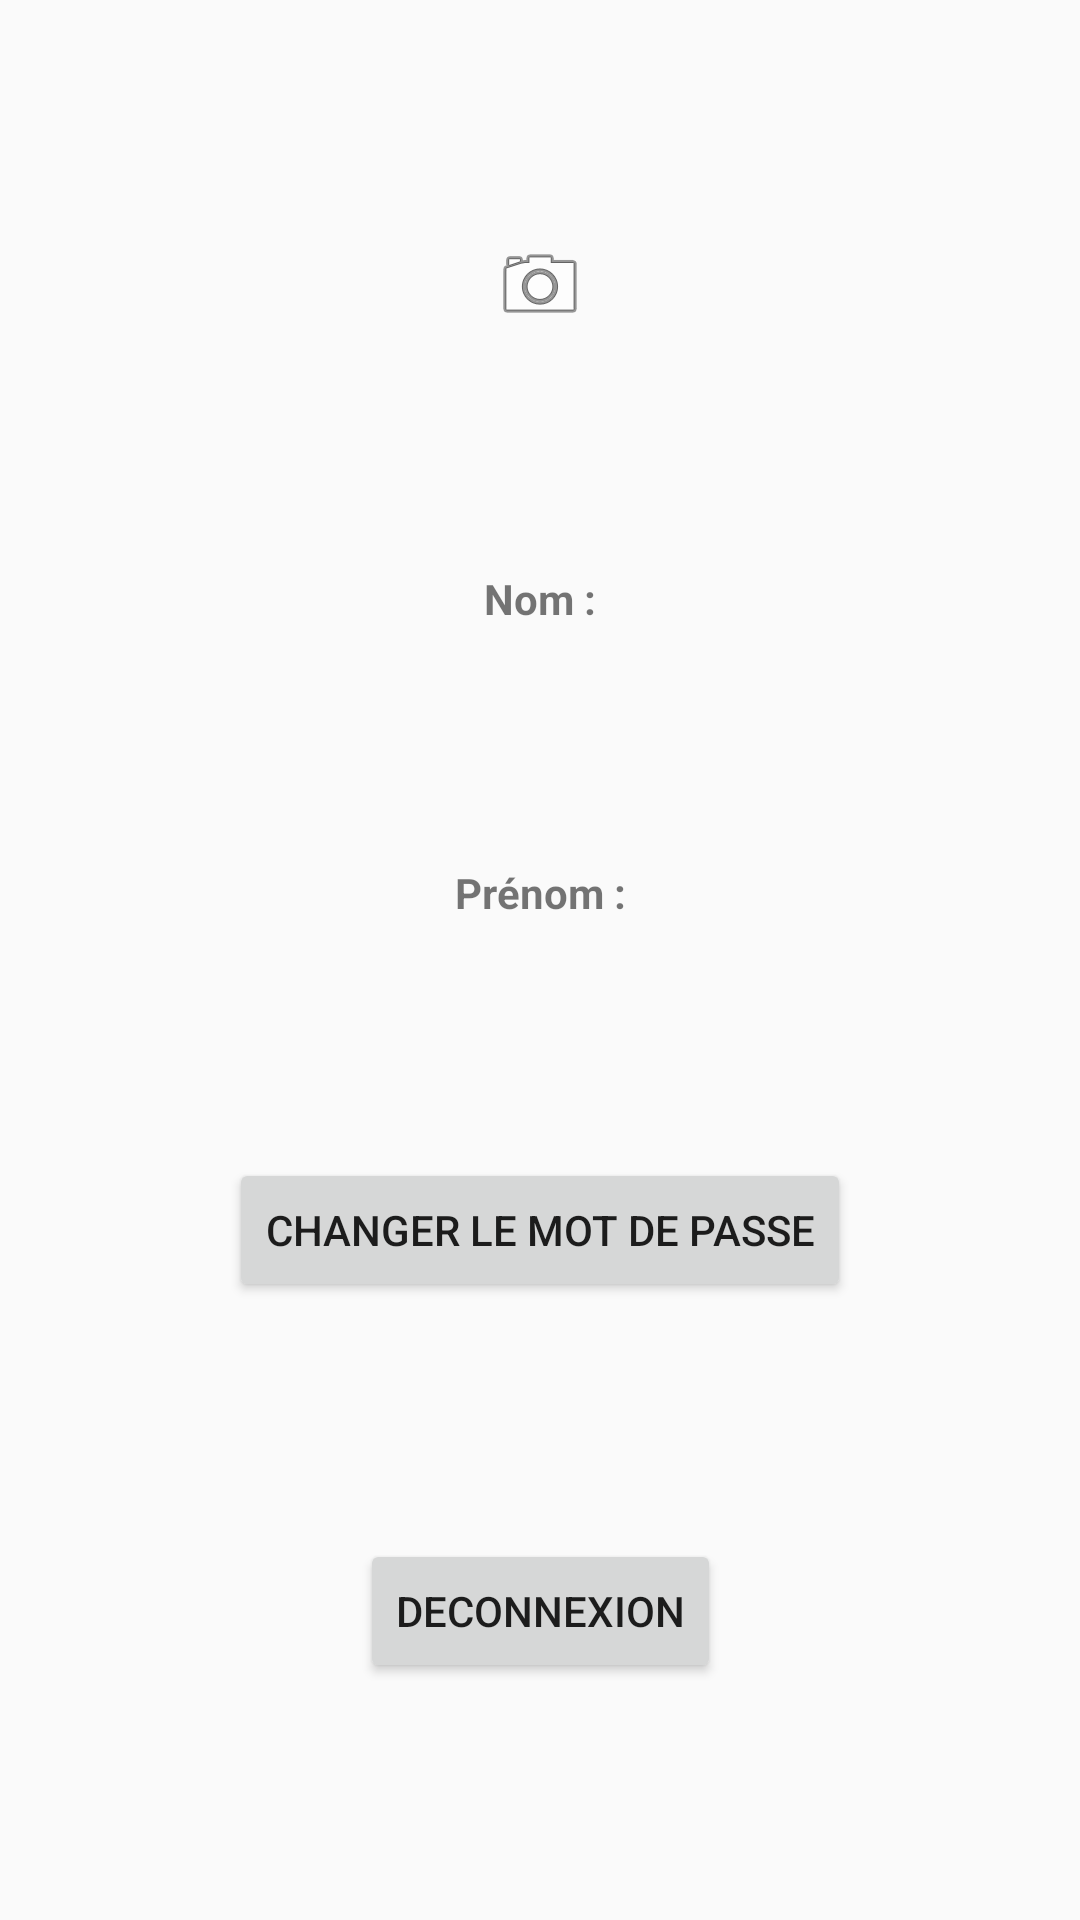

Locate icon controls on the screen. Image size 1080x1920, boxes as rect(x1, y1, x2, y2).
camera: rect(503, 254, 577, 313)
